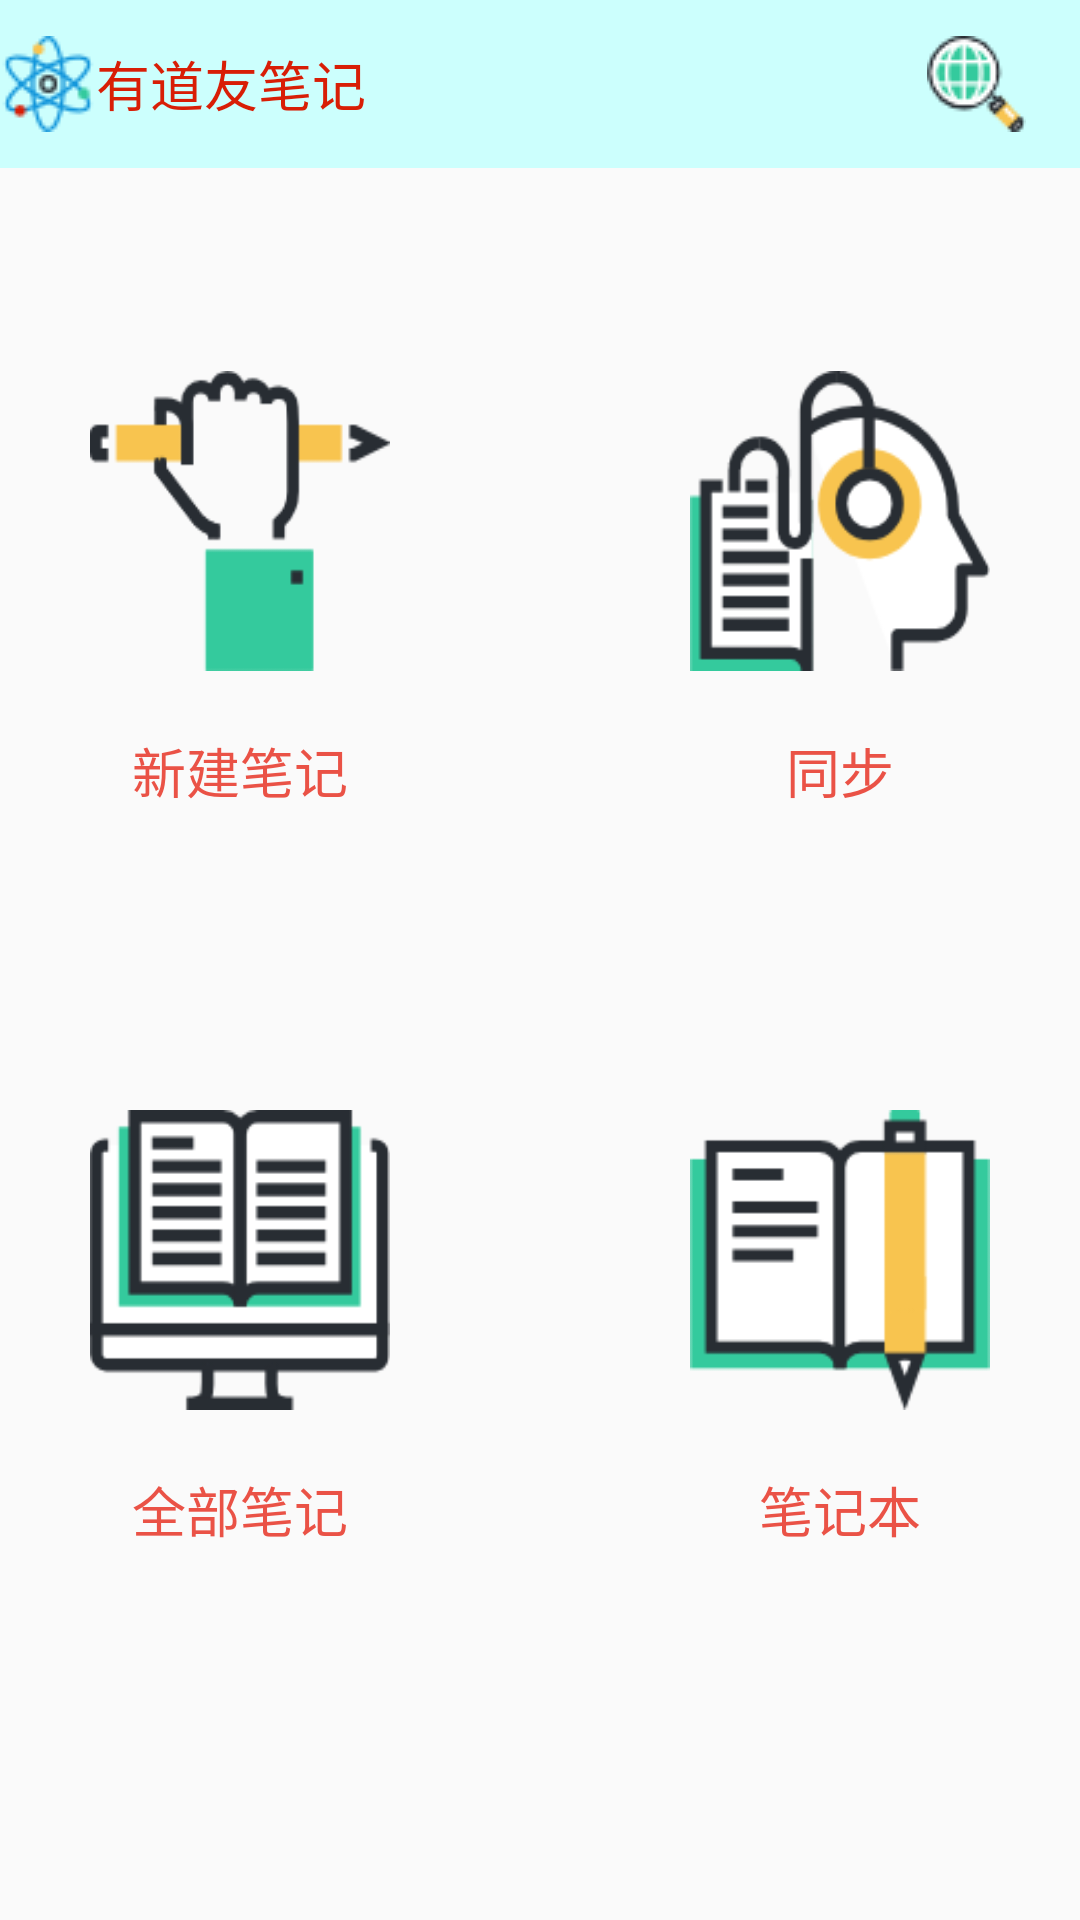

Named icons in this screenshot (1080 x 1920) and their centers, (x,y):
search: (976,84)
